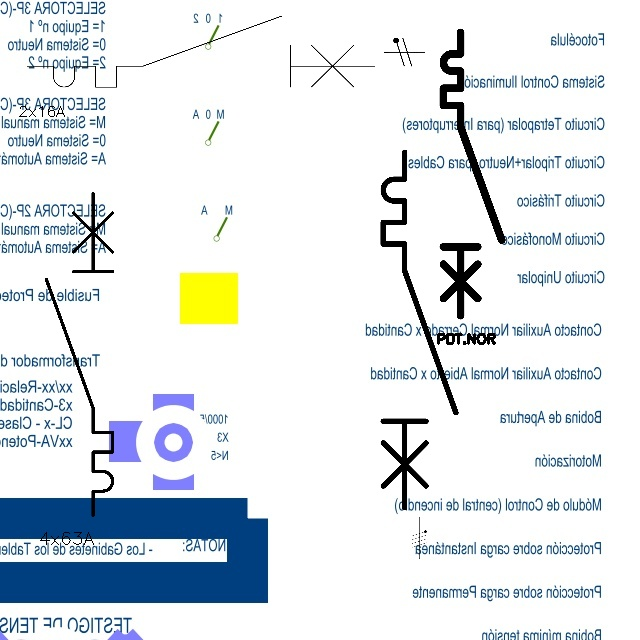interruptor_termomagnetico: (374, 143, 465, 517), (18, 7, 384, 96), (38, 185, 121, 524), (436, 25, 509, 323)
